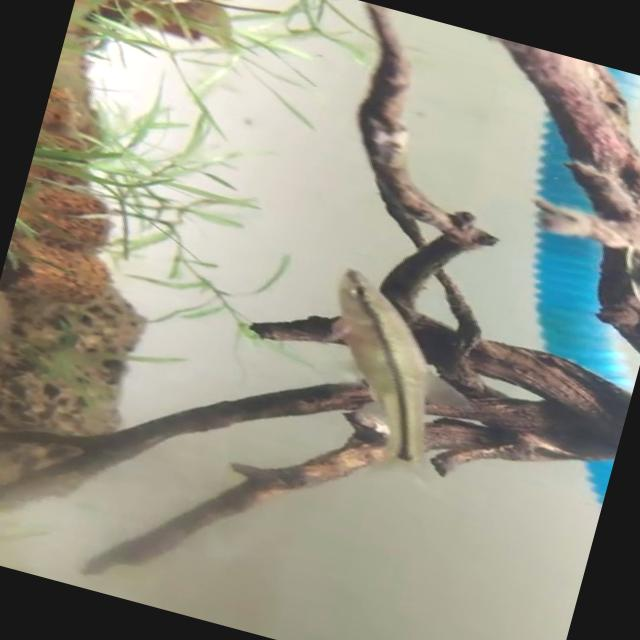Cakil Baligi: (273, 258, 502, 498)
